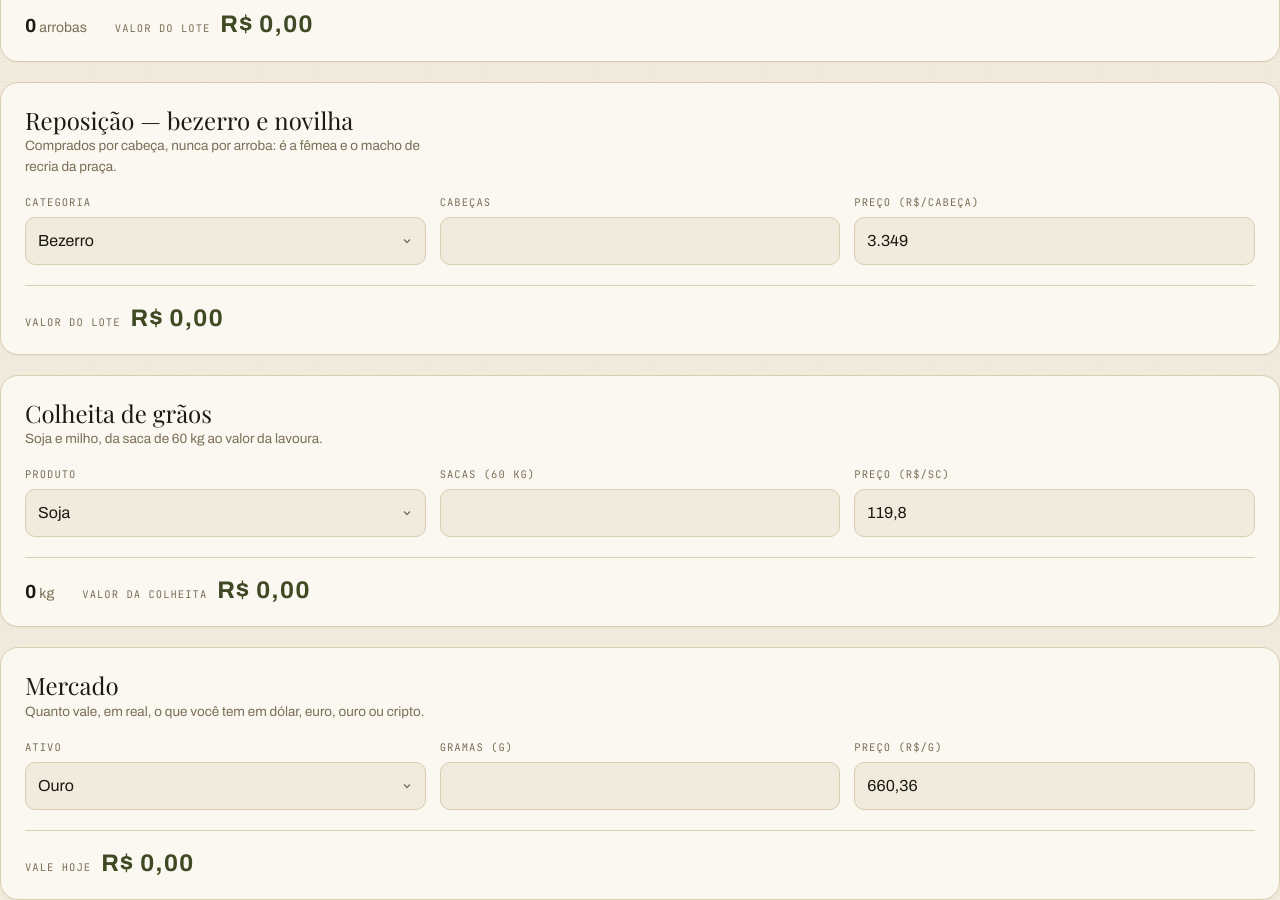
Calculadora › mercado: quantidade × preço, e o Ibovespa não entra (índice não tem lote)
(page scrolled)
Type "10" into the field named "quantidade".
click(640, 786); type("10")  # box [440,762,840,810]
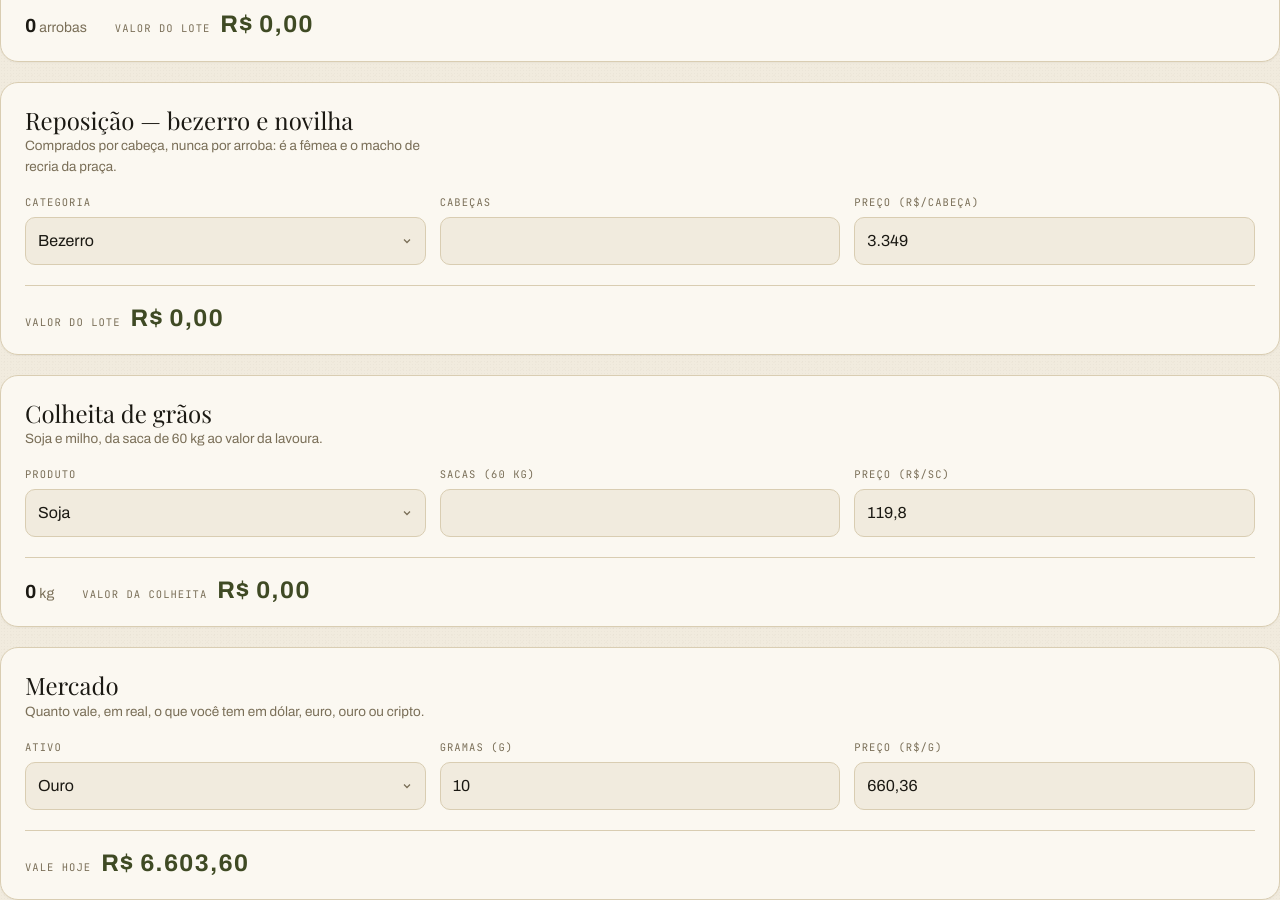
Expected: the text with test id "mercado-valor" reads "R$ 6.603,60", [101,847,249,879]
